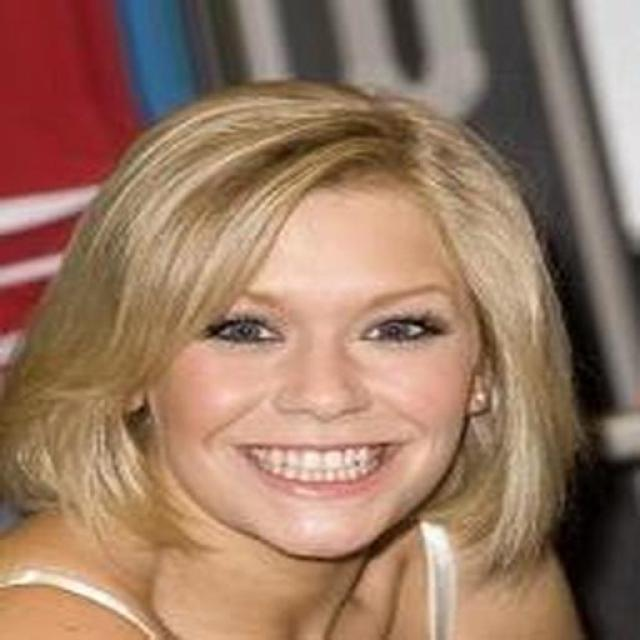bareface: (189, 238, 478, 546)
